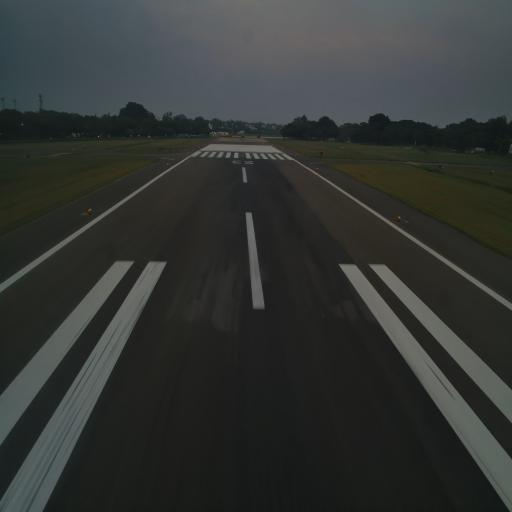on: (87, 206, 93, 215), (397, 214, 401, 224)
